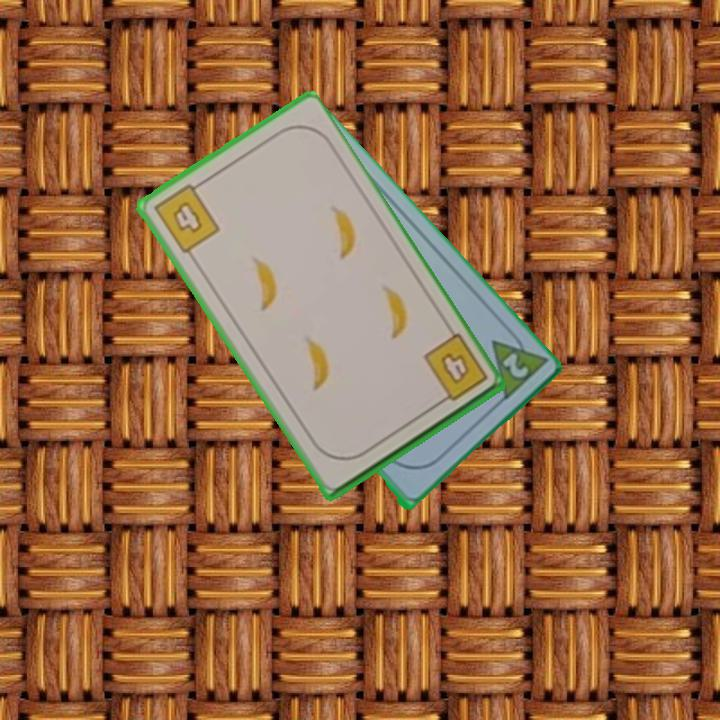2p: (498, 348, 531, 382)
4b: (149, 177, 223, 257), (419, 330, 491, 409)
